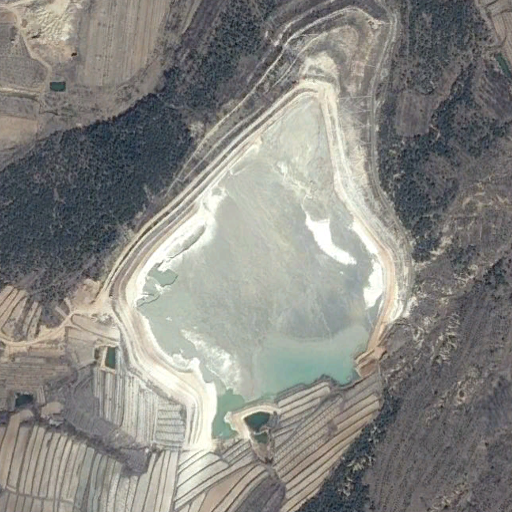tp: (111, 78, 416, 449)
